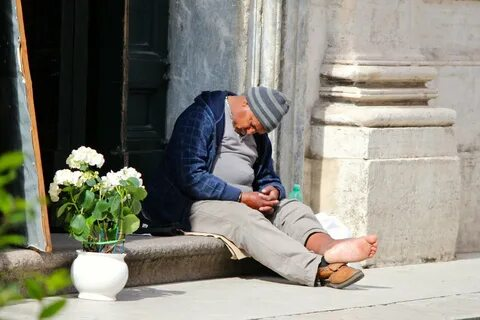sleep: (155, 84, 354, 263)
